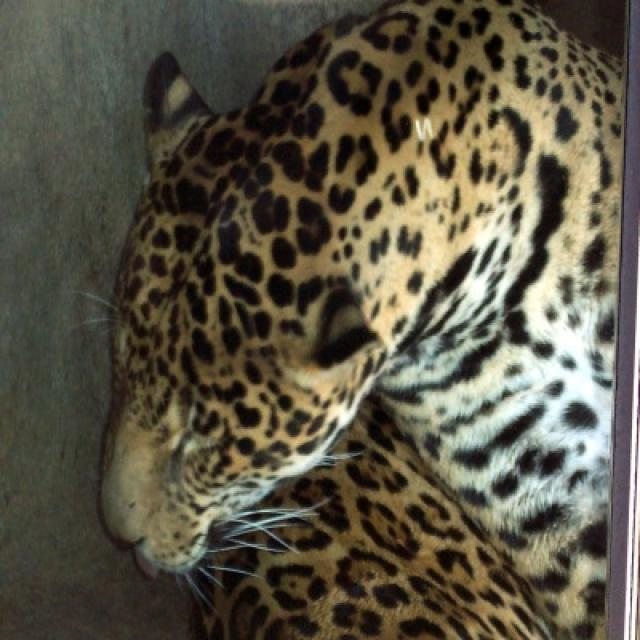Jaguar: (58, 0, 630, 638)
